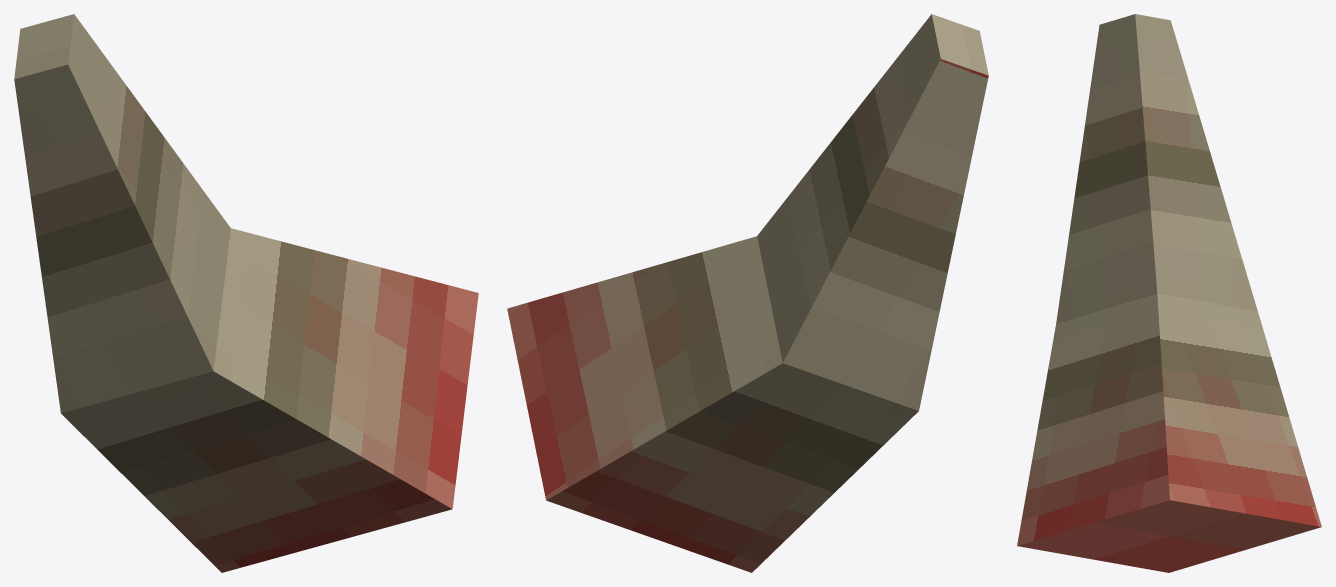
Rendered from skull_gib1.glb.
3 renders of one model, left to right at view 1: azimuth 30°, elevation 25°; view 2: azimuth 150°, elevation 25°; view 3: azimuth 270°, elevation 25°, orthographic. The views are drawn at different scales.
Visible parts, largest first — view 1: Cube; view 2: Cube; view 3: Cube.
Boxes of the visible parts, box(x1,y1,x2,y2) form: Cube: box(14, 14, 478, 572); Cube: box(507, 14, 988, 572); Cube: box(1017, 14, 1321, 572).
Size of the model in its own units: 0.5394 by 0.6523 by 0.3657.
1 material, 1 textured.
